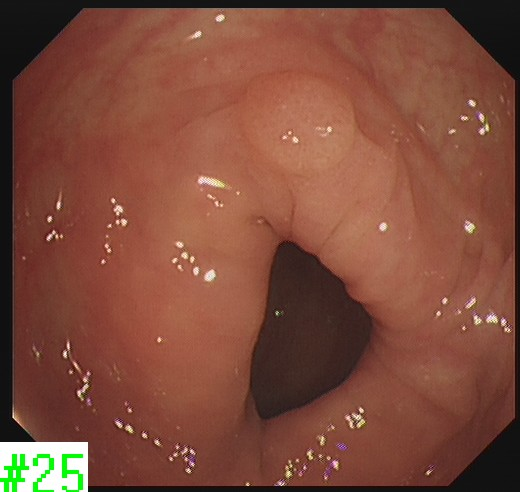adenoma: (236, 68, 359, 178)
